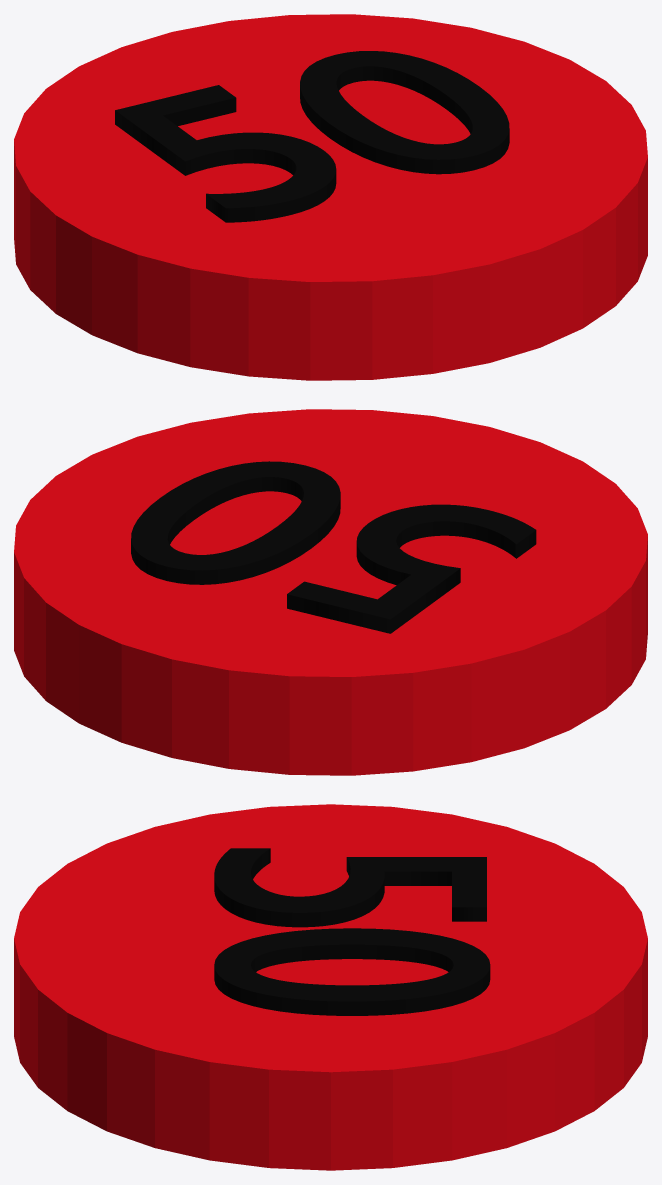
3 renders of one model, top to bottom at view 1: azimuth 30°, elevation 25°; view 2: azimuth 150°, elevation 25°; view 3: azimuth 270°, elevation 25°, orthographic.
Parts seen in each view (by area): view 1: 円柱.001, テキスト.001; view 2: 円柱.001, テキスト.001; view 3: 円柱.001, テキスト.001.
Boxes of the visible parts, x1,y1,x2,y2 form: 円柱.001: (14, 14, 647, 380); テキスト.001: (115, 51, 509, 222); 円柱.001: (14, 409, 647, 775); テキスト.001: (131, 461, 536, 633); 円柱.001: (14, 804, 647, 1170); テキスト.001: (214, 848, 490, 1015).
Size of the model in its own units: 59.18 by 11.62 by 59.18.
